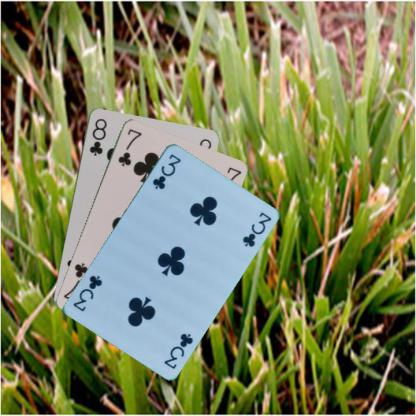3c: (150, 150, 183, 190), (161, 330, 194, 370)
7c: (115, 126, 143, 168)
8c: (87, 116, 108, 157)
